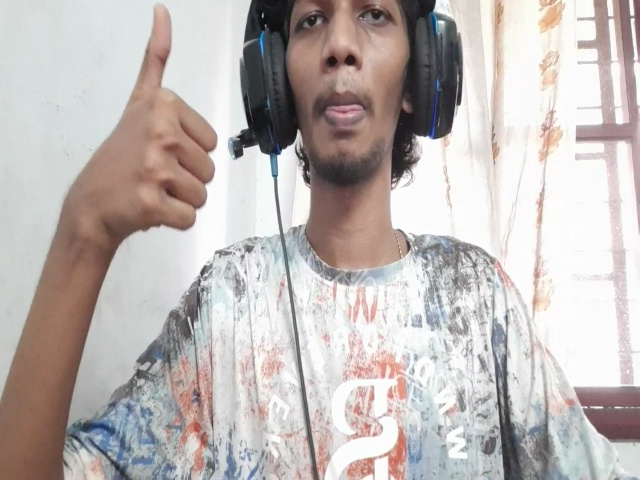ThumbsUp: (85, 3, 216, 232)
